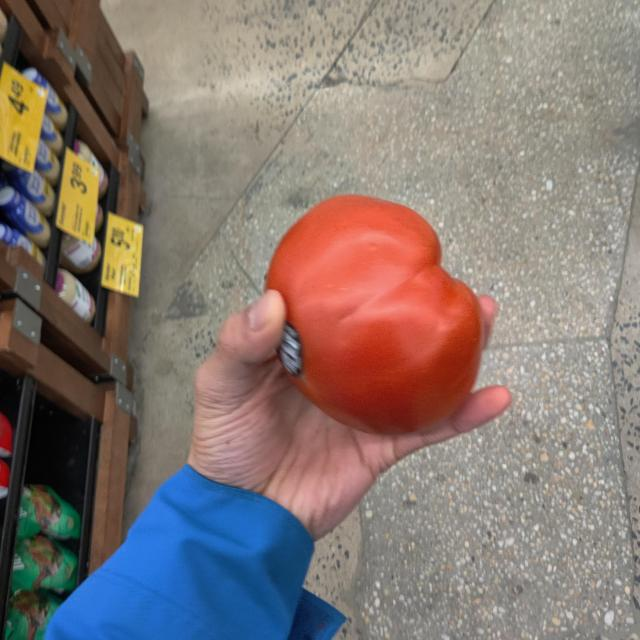Tomatoes: (274, 194, 482, 423)
